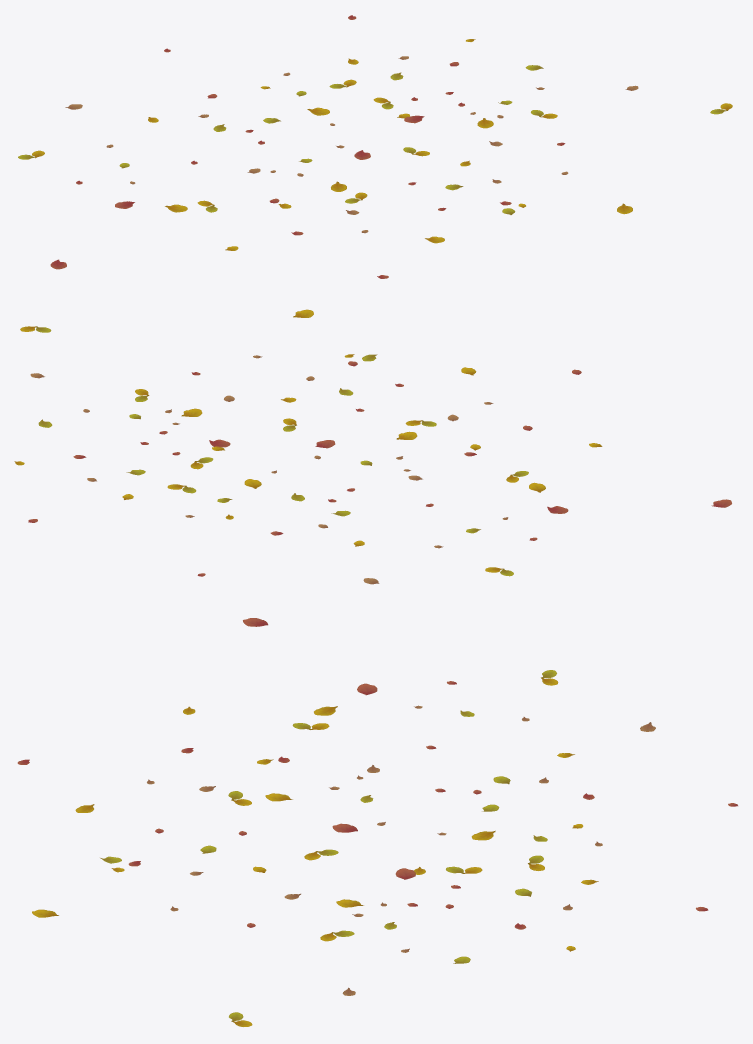
The model's file is Scene_hua_006.FBX.
3 renders of one model, top to bottom at view 1: azimuth 30°, elevation 25°; view 2: azimuth 150°, elevation 25°; view 3: azimuth 270°, elevation 25°, orthographic. The views are drawn at different scales.
Visible parts, largest first — view 1: Scene_hua_006; view 2: Scene_hua_006; view 3: Scene_hua_006.
Part boxes in pixels (bbox=[...]): Scene_hua_006: bbox=[18, 15, 732, 278]; Scene_hua_006: bbox=[14, 309, 731, 584]; Scene_hua_006: bbox=[17, 618, 737, 1026].
Size of the model in its own units: 822 by 2.94 by 608.
